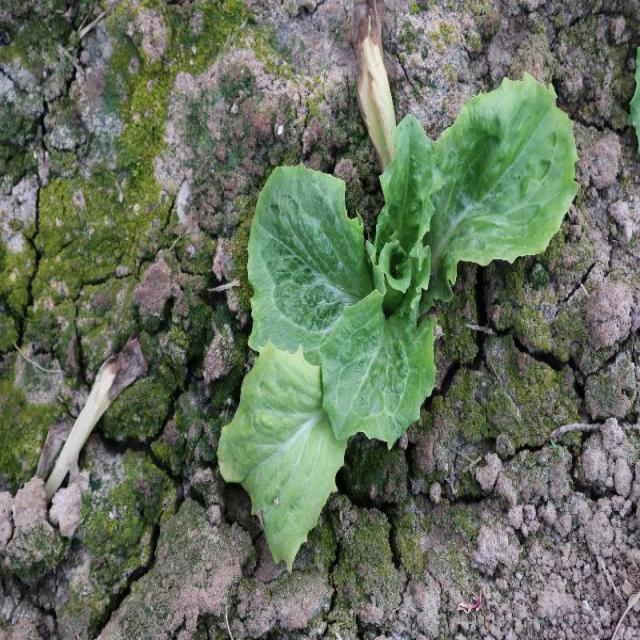crop: (214, 74, 580, 577)
